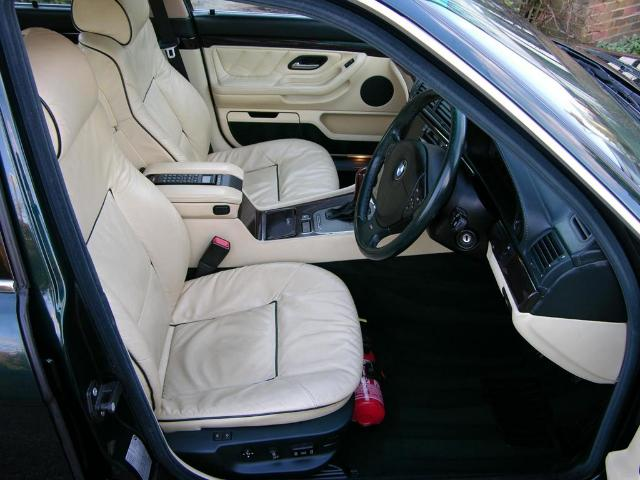Seatbelt: (150, 2, 184, 76)
